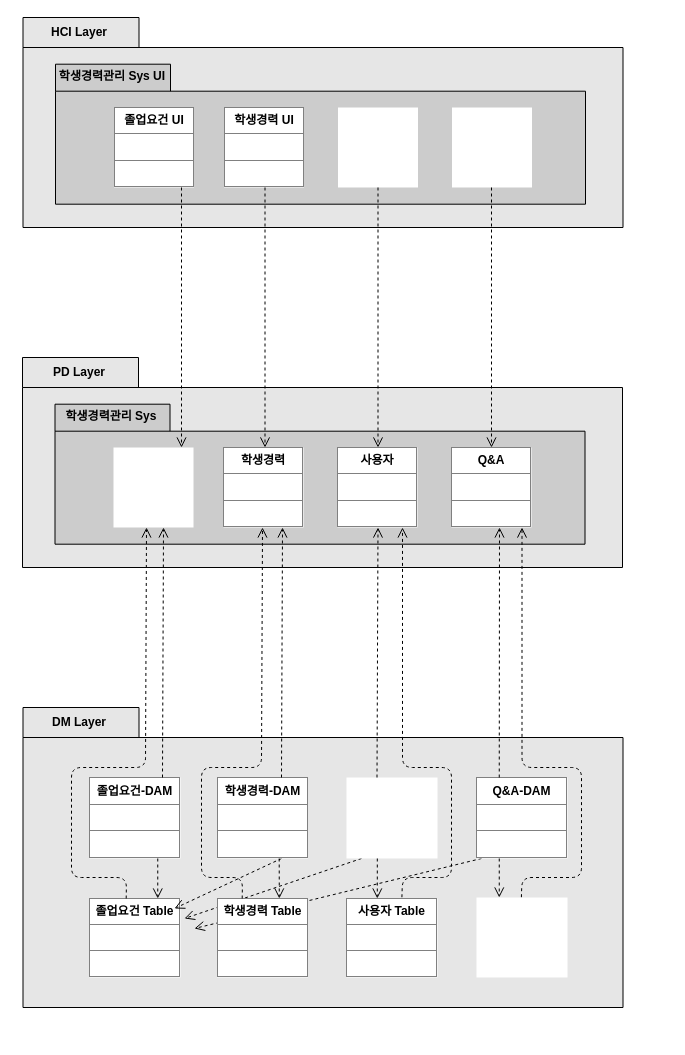
This 685x1055 diagram has some shape labels left out. The box of each missing label's shape, as (x1, y1, x2, y2) in pixels:
Q&A Table: (476, 897, 567, 977)
Q&A UI: (452, 107, 532, 187)
사용자 UI: (338, 107, 418, 187)
사용자-DAM: (346, 777, 437, 858)
졸업요건: (113, 447, 193, 527)
